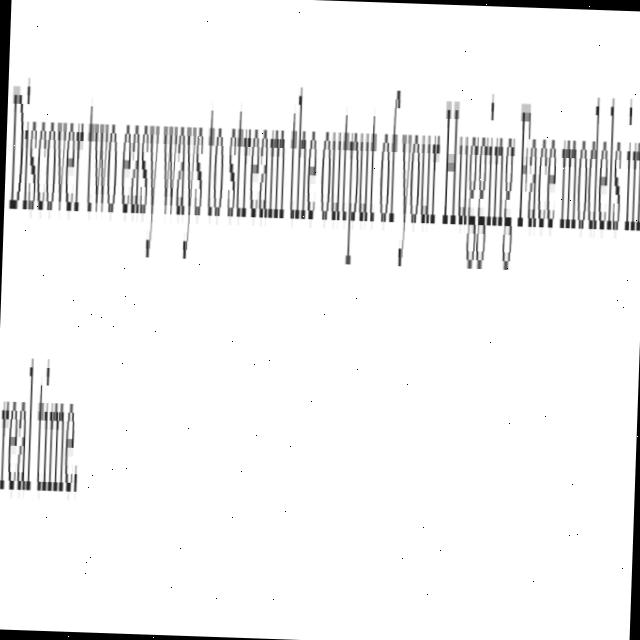word: (6, 51, 89, 269), (439, 84, 518, 279), (557, 83, 627, 278), (225, 76, 289, 279), (316, 93, 382, 283), (395, 91, 445, 294), (33, 345, 84, 544), (156, 87, 207, 277), (115, 72, 163, 266), (516, 82, 560, 254), (82, 62, 121, 252), (0, 326, 38, 516), (376, 68, 405, 279), (287, 74, 320, 250), (203, 62, 230, 273), (620, 85, 640, 270)
